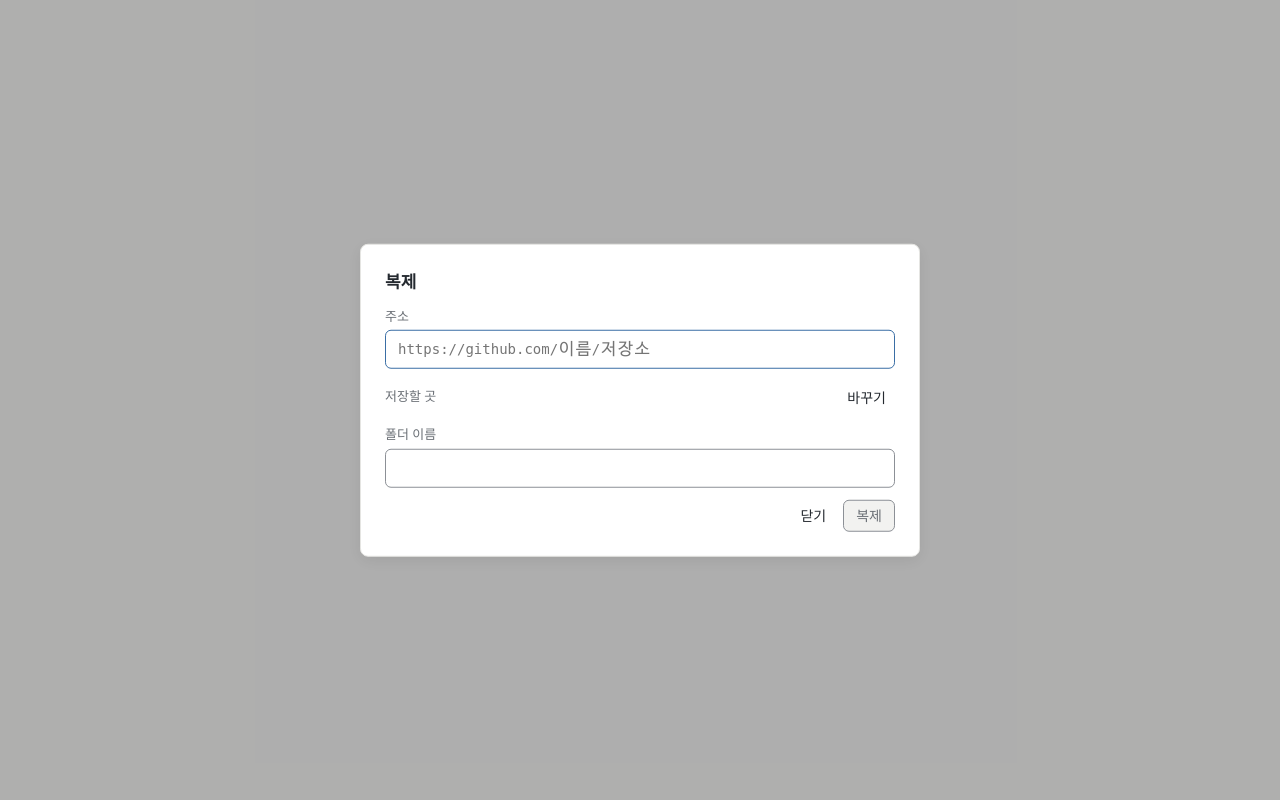
Test: CloneDialog › 고친 이름은 주소가 바뀌어도 그대로, 저장할 곳은 바꿀 수 있다
Type "https://github.com/octo/a" into the field labelled "주소" at (640, 349), box [385,330,895,369]
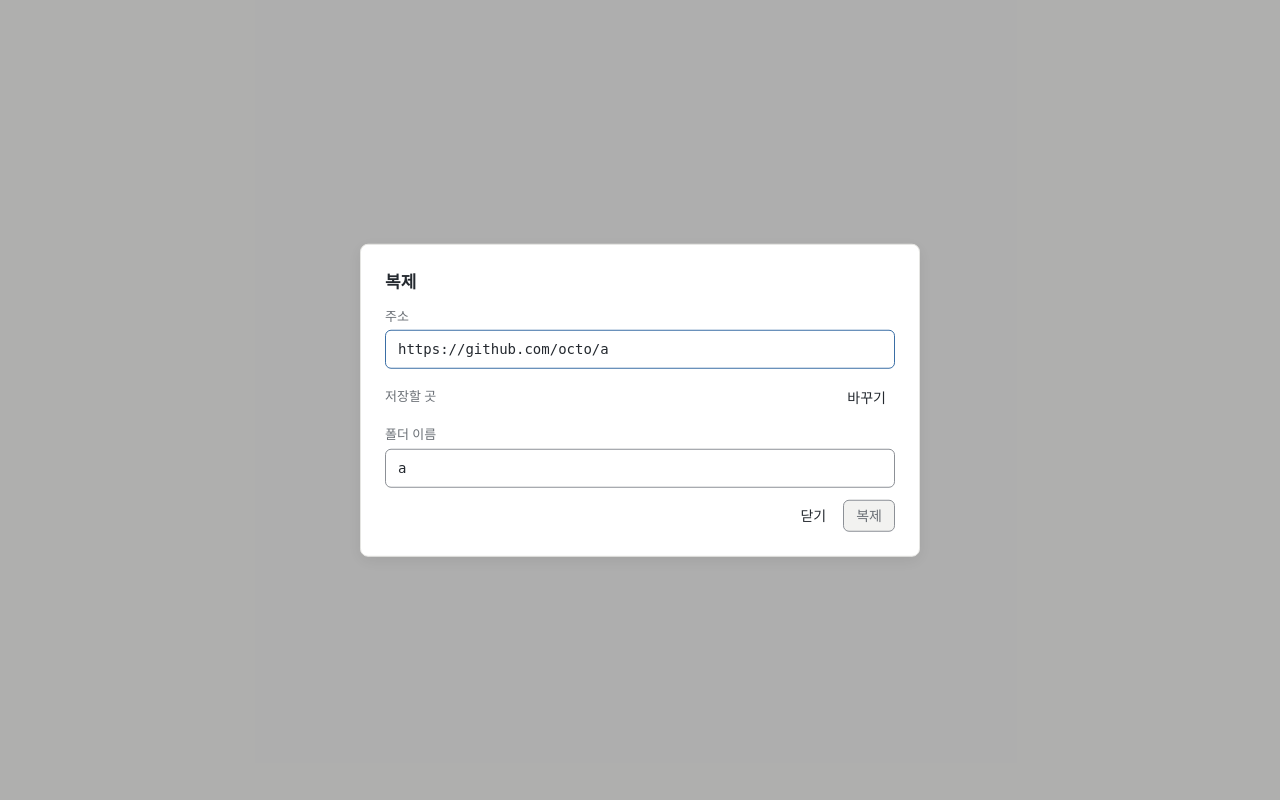
Replace the text in the field labelled "폴더 이름" with "내 이름" at (640, 468), box [385,448,895,487]
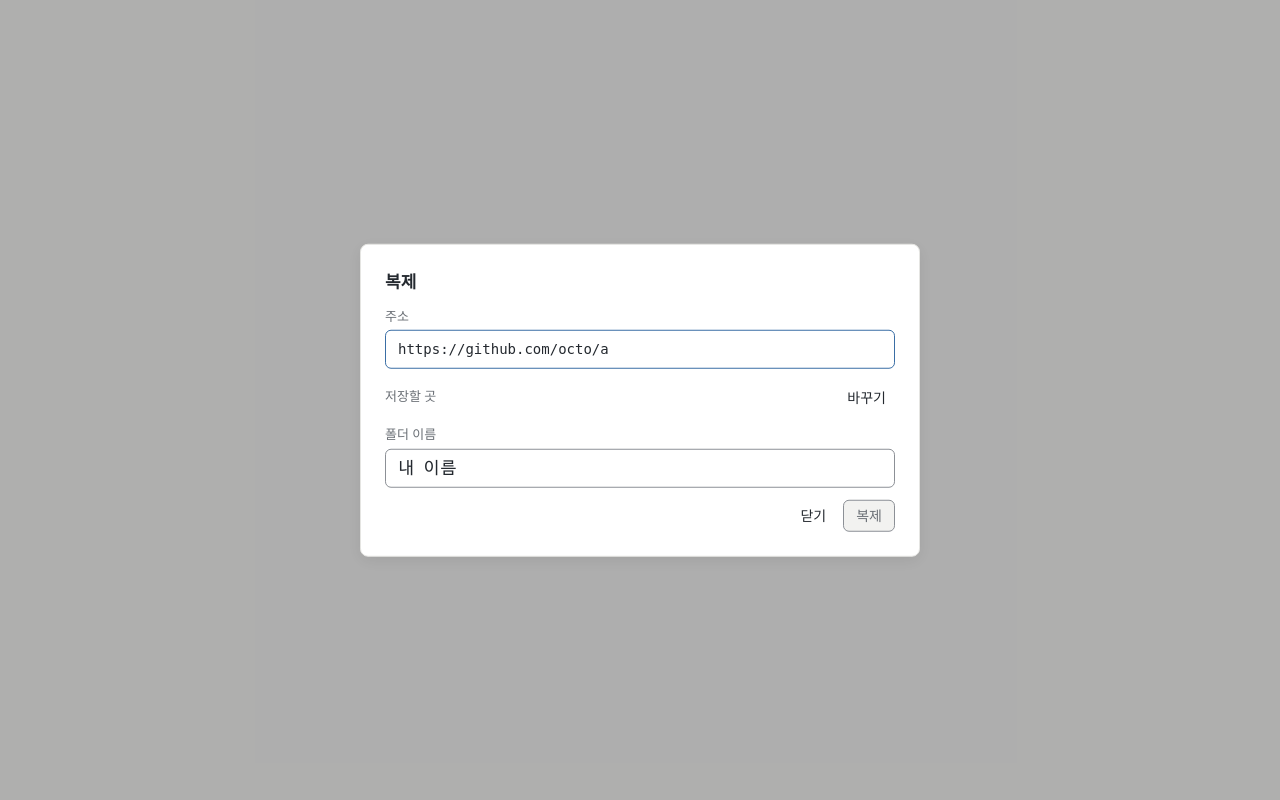
Replace the text in the field labelled "주소" with "https://github.com/octo/b" at (640, 349), box [385,330,895,369]
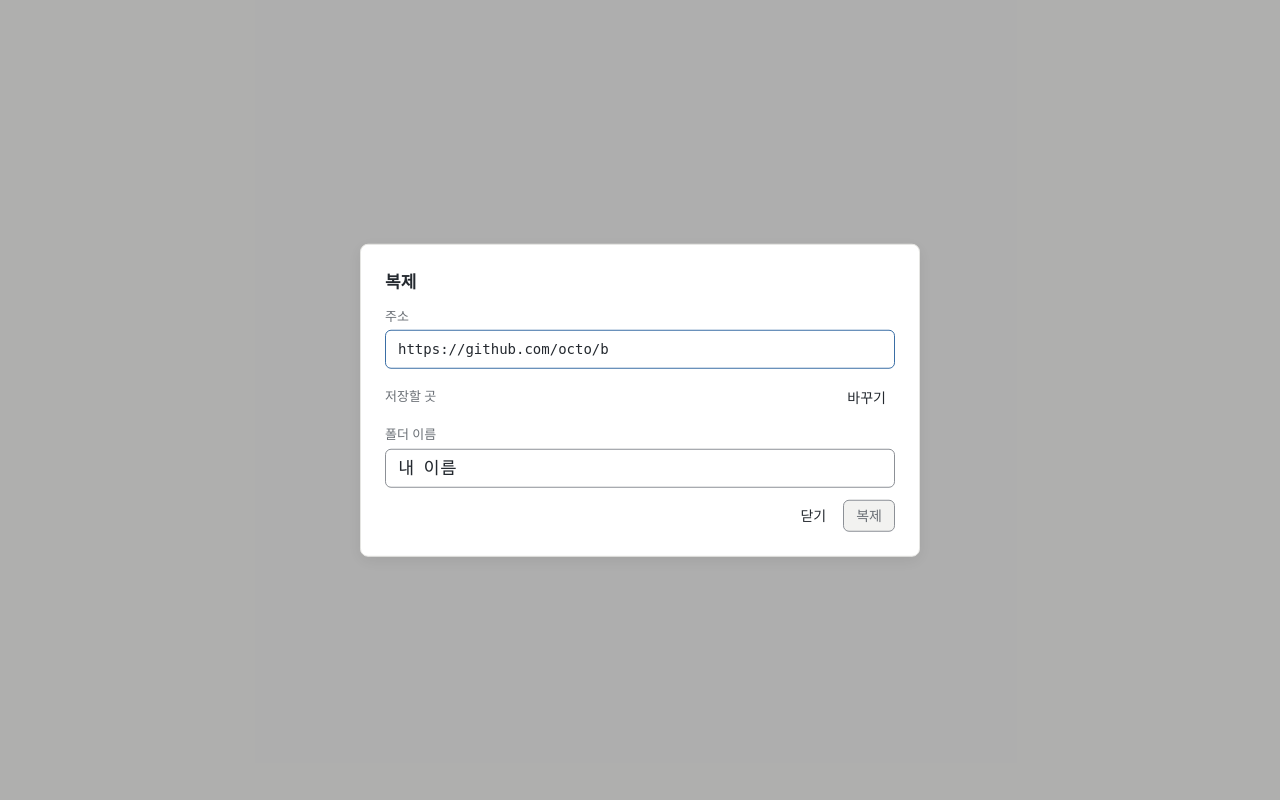
Click the button "바꾸기" at (867, 397), box [838,381,895,413]
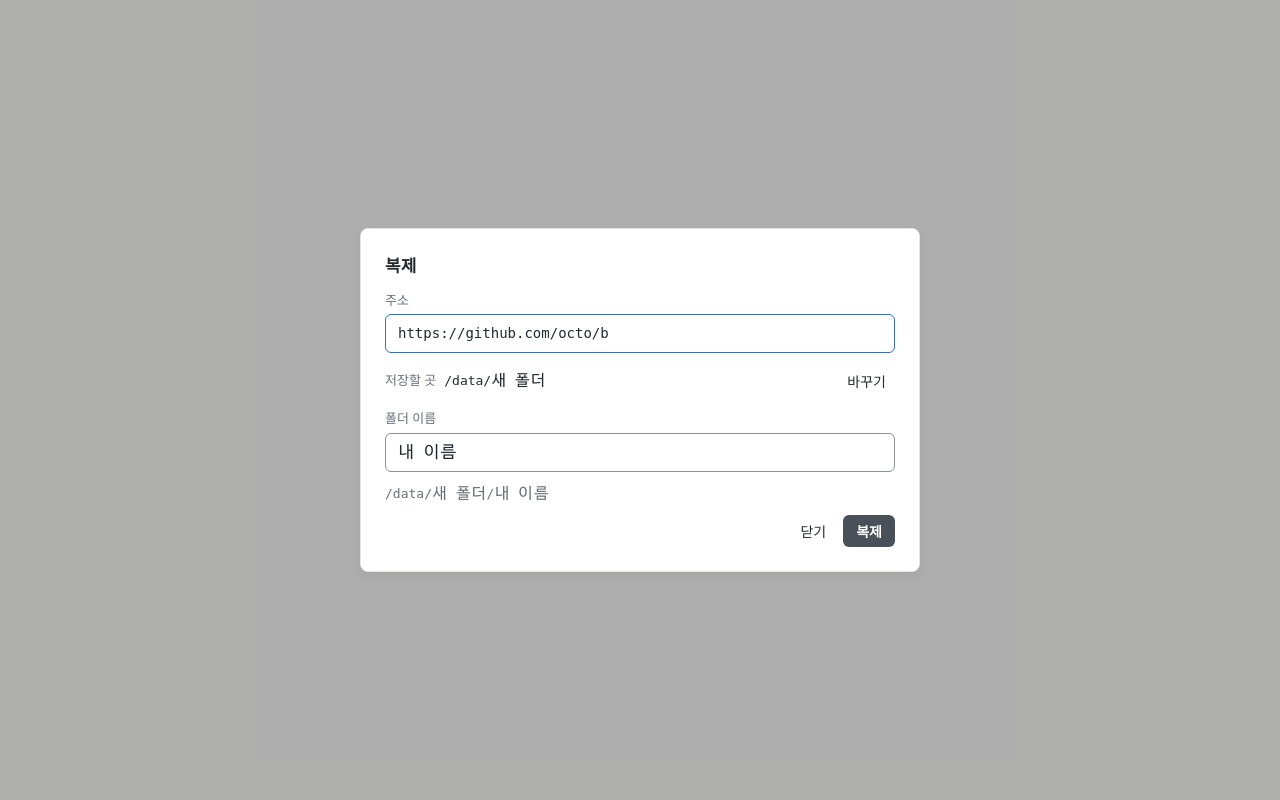
Result: the text "/data/새 폴더/내 이름" is shown at [385,486,549,500]
